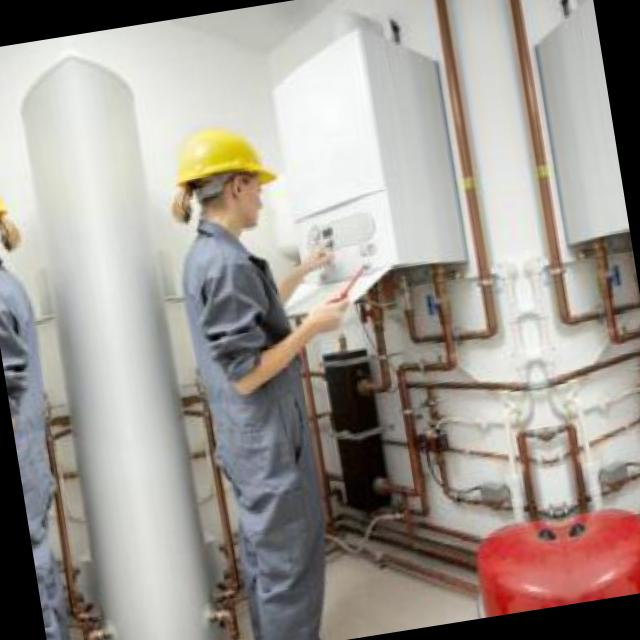helmet: (150, 100, 289, 258), (0, 140, 35, 288)
